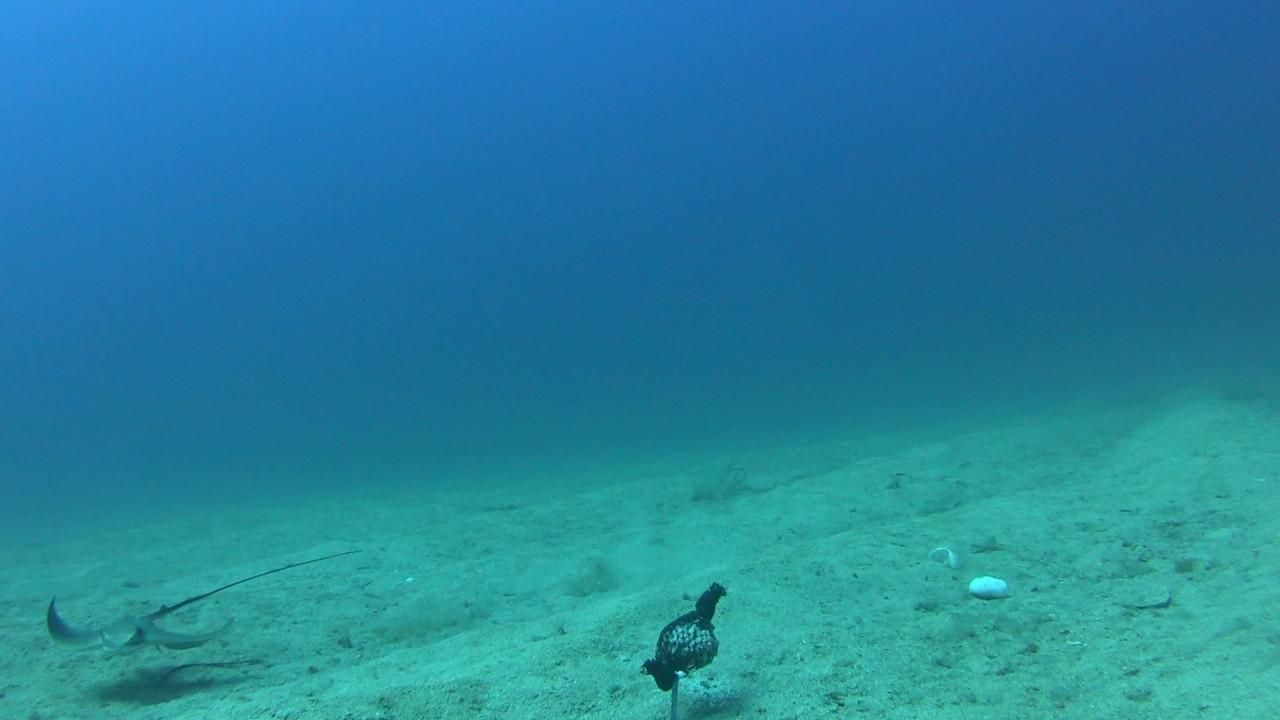myliobatis: (30, 539, 399, 663)
